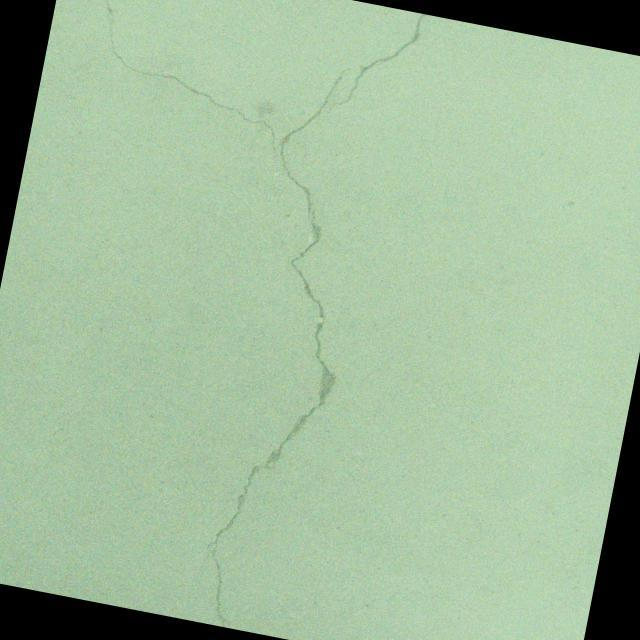crack: (0, 0, 407, 639), (323, 0, 429, 134)
